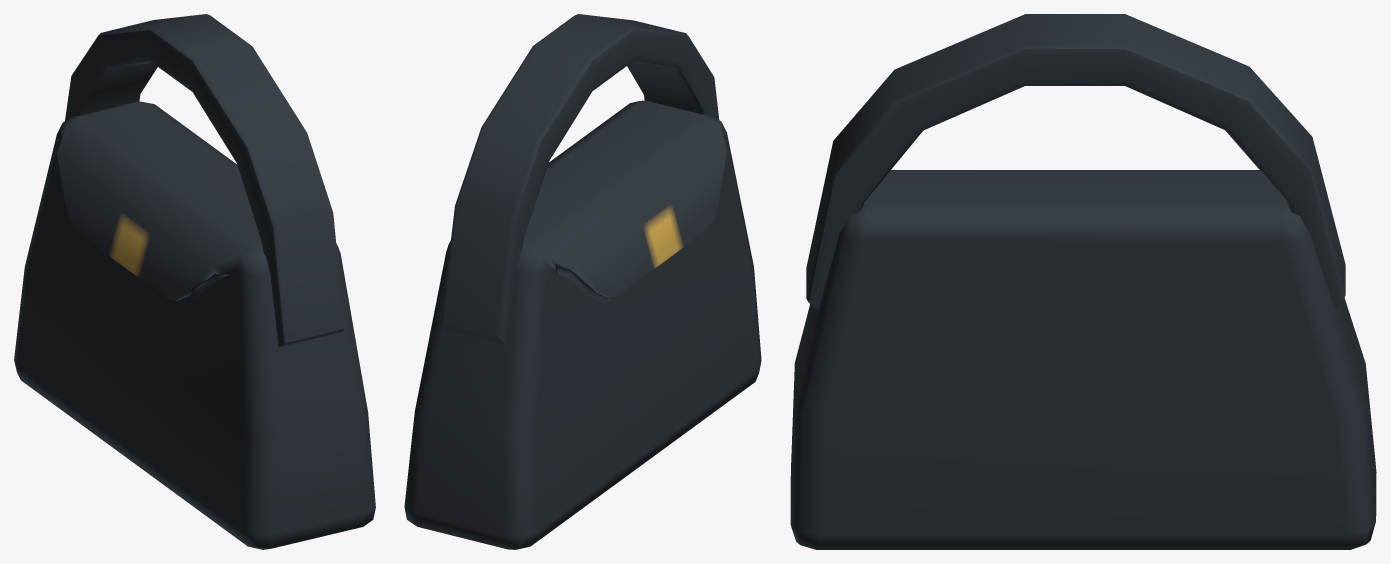
File: Handbag.fbx
3 views of the same model, side by side, from view 1: azimuth 30°, elevation 25°; view 2: azimuth 150°, elevation 25°; view 3: azimuth 270°, elevation 25° (orthographic). The views are drawn at different scales.
Visible parts, largest first — view 1: hand_Bag; view 2: hand_Bag; view 3: hand_Bag.
Part boxes in pixels (bbox=[...]): hand_Bag: bbox=[14, 14, 375, 549]; hand_Bag: bbox=[404, 14, 761, 549]; hand_Bag: bbox=[790, 14, 1376, 549].
Bounding box in the file's own units: 3.87 × 10.75 × 11.53.
Materials: 1 (1 with a texture image).
